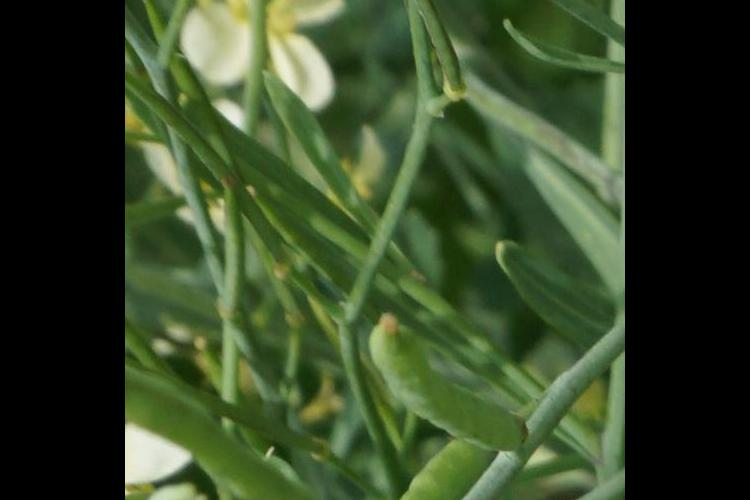pod: (359, 287, 528, 439), (363, 1, 474, 96), (339, 434, 467, 500)
